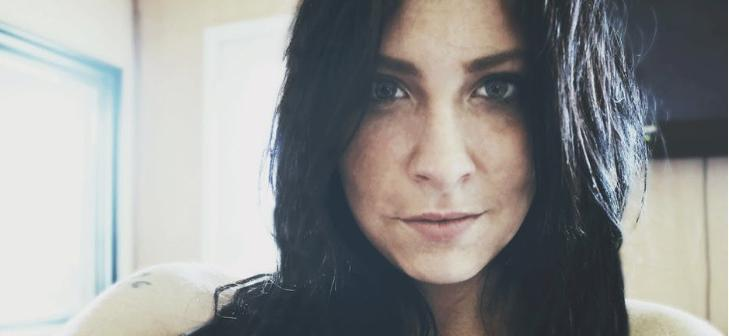face: (337, 1, 542, 285)
